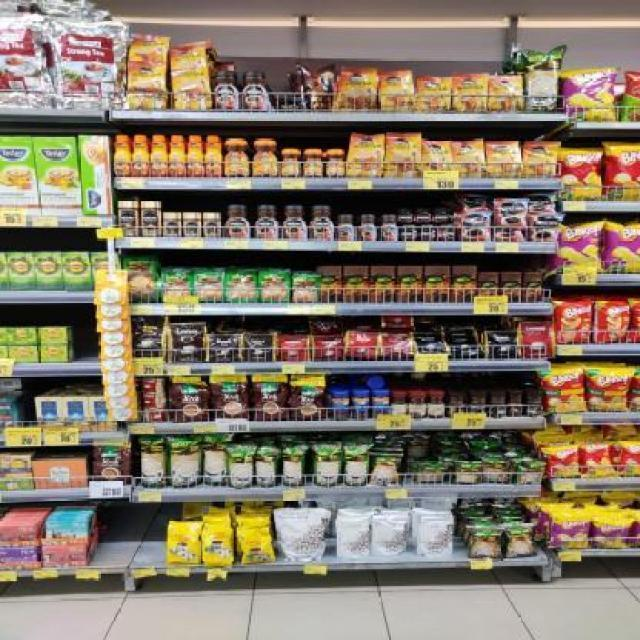Coffee: (128, 61, 166, 110), (172, 67, 211, 110), (341, 68, 377, 112), (348, 134, 384, 178), (385, 134, 420, 178), (453, 74, 488, 112), (380, 72, 414, 110), (416, 77, 450, 112), (489, 76, 522, 112), (487, 141, 520, 177), (524, 142, 557, 178), (452, 141, 484, 177), (214, 71, 242, 112), (421, 141, 451, 177), (252, 139, 280, 176), (223, 138, 250, 176), (243, 72, 269, 111), (527, 213, 561, 242), (495, 200, 528, 229), (281, 205, 308, 240), (307, 205, 334, 240), (253, 205, 280, 239), (459, 212, 490, 241), (225, 205, 252, 238), (167, 134, 187, 175), (140, 201, 163, 236), (117, 201, 140, 235), (204, 136, 223, 175), (150, 134, 168, 175), (133, 135, 150, 178), (114, 134, 131, 176), (187, 136, 204, 178), (281, 149, 302, 178), (323, 150, 346, 176), (336, 215, 358, 240), (358, 215, 379, 241), (304, 150, 324, 177), (201, 213, 222, 238), (162, 212, 182, 238), (379, 214, 399, 240), (183, 213, 203, 238), (434, 207, 452, 223), (398, 208, 415, 224), (402, 224, 419, 240), (416, 208, 432, 224), (420, 225, 437, 240), (439, 225, 456, 240)
